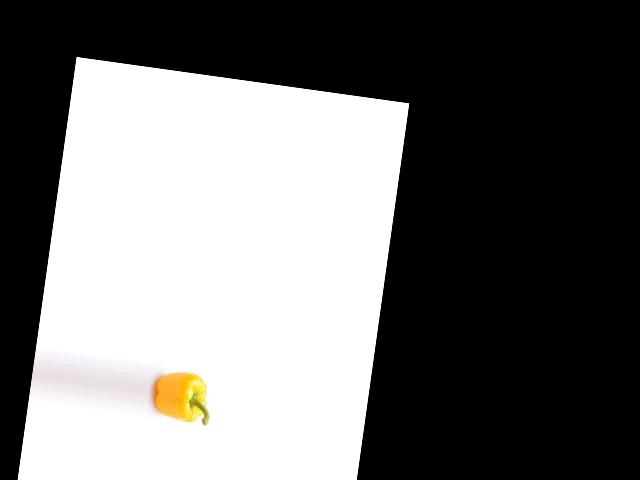bell_pepper: (150, 363, 213, 427)
